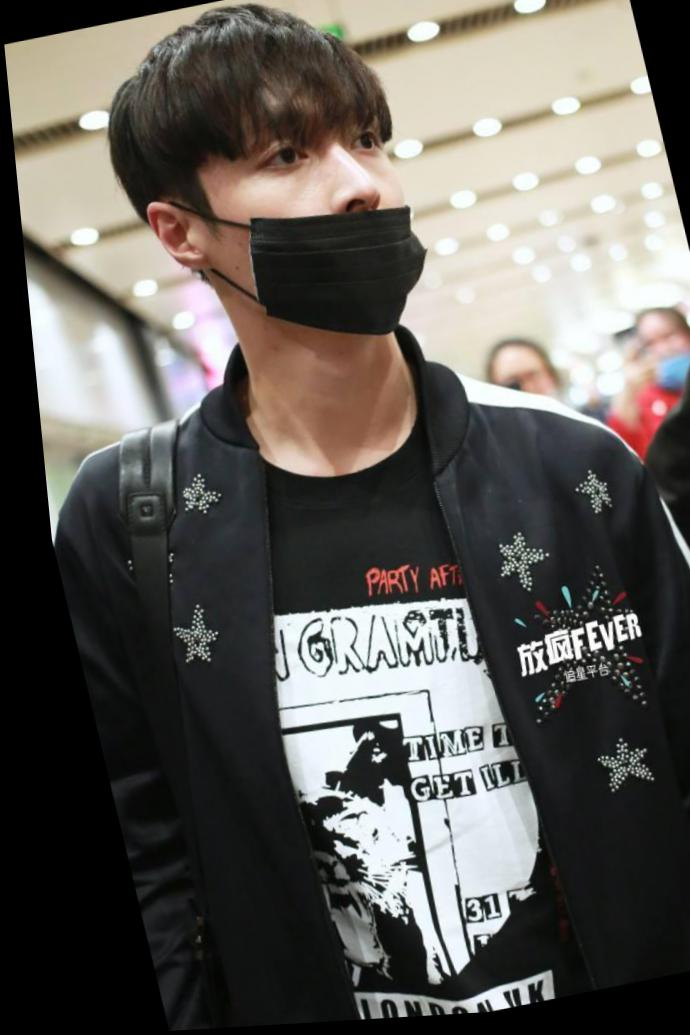WRONG: (184, 64, 434, 359), (628, 325, 690, 400)
